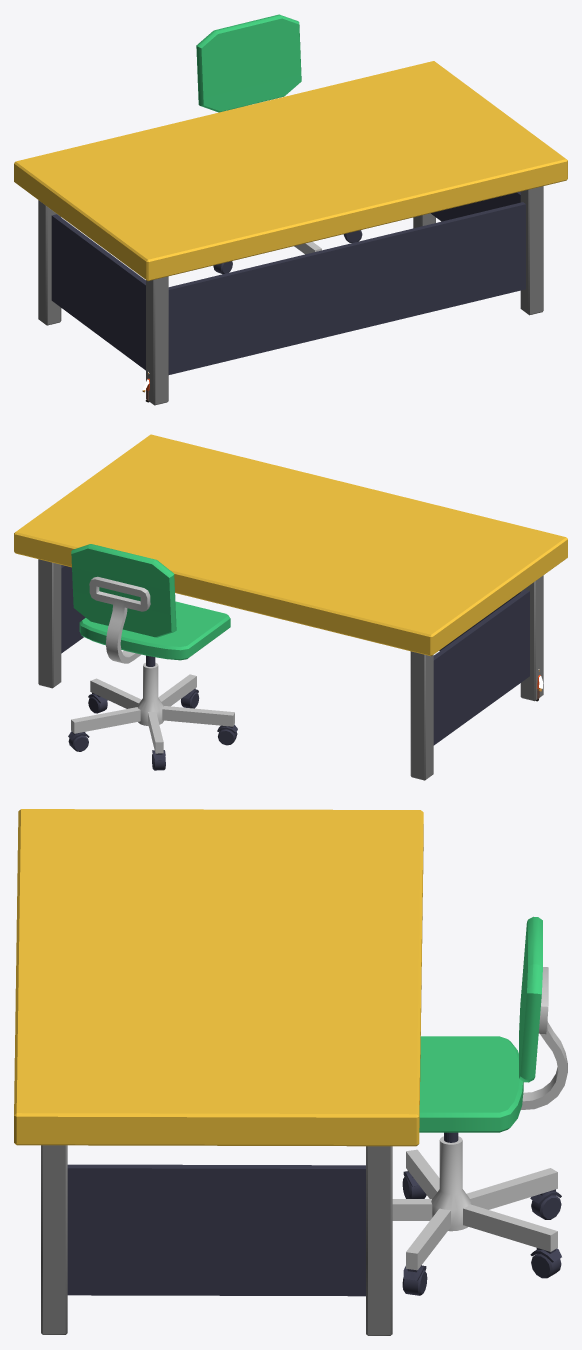
The model's file is tableChair.glb.
3 views of the same model, one above another, from view 1: azimuth 30°, elevation 25°; view 2: azimuth 150°, elevation 25°; view 3: azimuth 270°, elevation 25° (orthographic). The views are drawn at different scales.
Visible parts, largest first — view 1: Board, Boards, Chair parts, Legs; view 2: Board, Boards, Chair parts, Legs, Skeleton, Wheels; view 3: Board, Boards, Chair parts, Skeleton, Legs, Wheels.
Part boxes in pixels (<box>): Board: <box>14,61,567,281</box>; Boards: <box>51,191,525,374</box>; Chair parts: <box>196,14,301,112</box>; Legs: <box>38,186,543,405</box>; Board: <box>14,434,567,656</box>; Boards: <box>61,565,529,745</box>; Chair parts: <box>71,544,230,660</box>; Legs: <box>38,559,543,780</box>; Skeleton: <box>71,576,234,753</box>; Wheels: <box>68,688,237,770</box>; Board: <box>14,809,423,1146</box>; Boards: <box>67,1164,365,1296</box>; Chair parts: <box>419,916,542,1132</box>; Skeleton: <box>392,967,567,1270</box>; Legs: <box>41,1145,392,1335</box>; Wheels: <box>402,1170,561,1295</box>.
Bounding box in the file's own units: 0.6079 × 0.2822 × 0.463.
